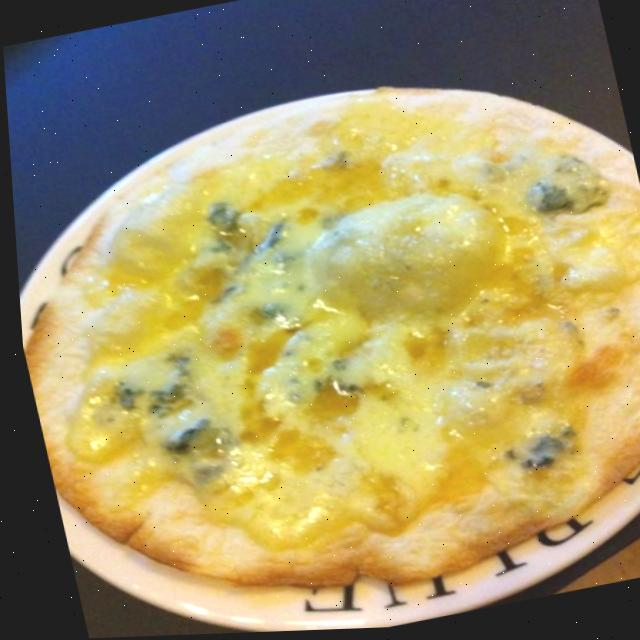面包点心: (4, 53, 640, 639)
